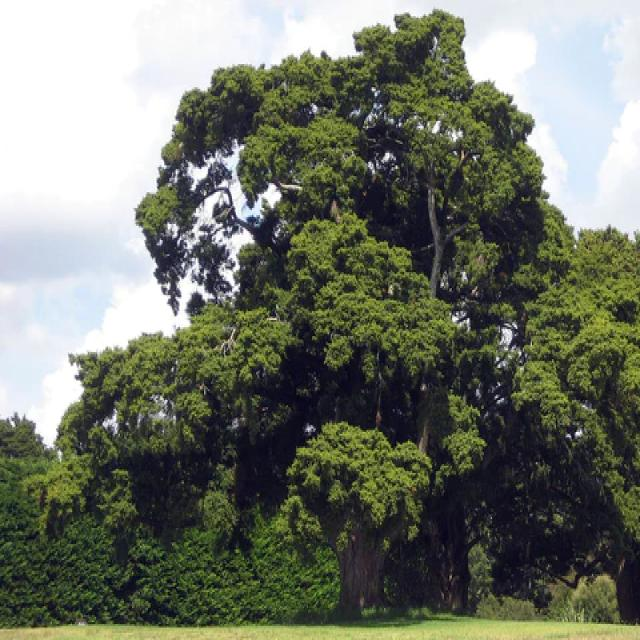Totara: (36, 20, 535, 607)
